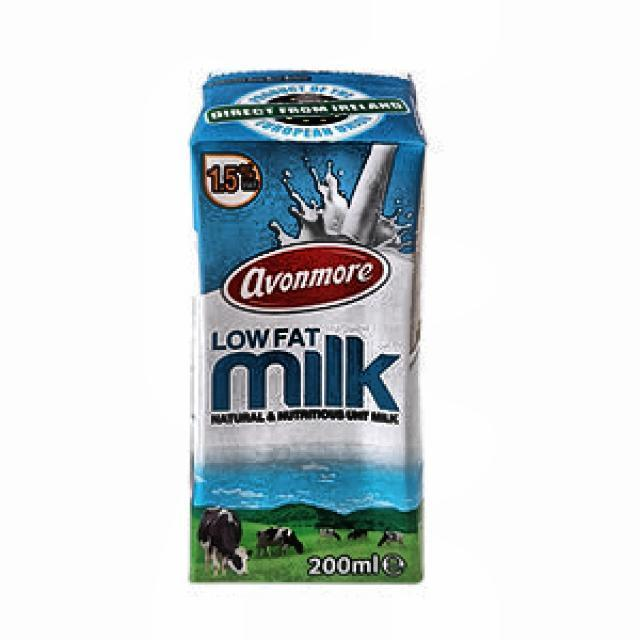cardboard: (186, 68, 427, 582)
